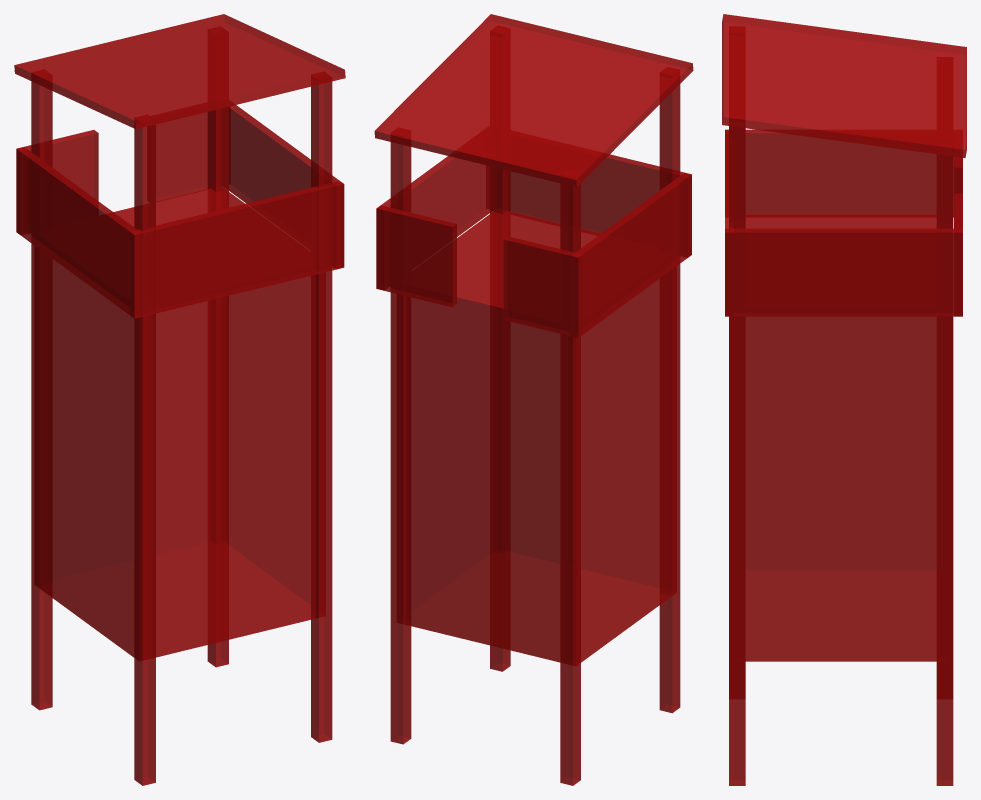
The model's file is SM_Bld_GuardTower_01_Collision.fbx.
3 views of the same model, side by side, from view 1: azimuth 30°, elevation 25°; view 2: azimuth 150°, elevation 25°; view 3: azimuth 270°, elevation 25° (orthographic). The views are drawn at different scales.
Parts seen in each view (by area): view 1: SM_Bld_GuardTower_01_Collision; view 2: SM_Bld_GuardTower_01_Collision; view 3: SM_Bld_GuardTower_01_Collision.
Part boxes in pixels (x1,y1,x2,y2): SM_Bld_GuardTower_01_Collision: (14,14,345,785); SM_Bld_GuardTower_01_Collision: (374,14,693,785); SM_Bld_GuardTower_01_Collision: (722,14,966,785).
Bounding box in the file's own units: 290 × 885 × 291.
